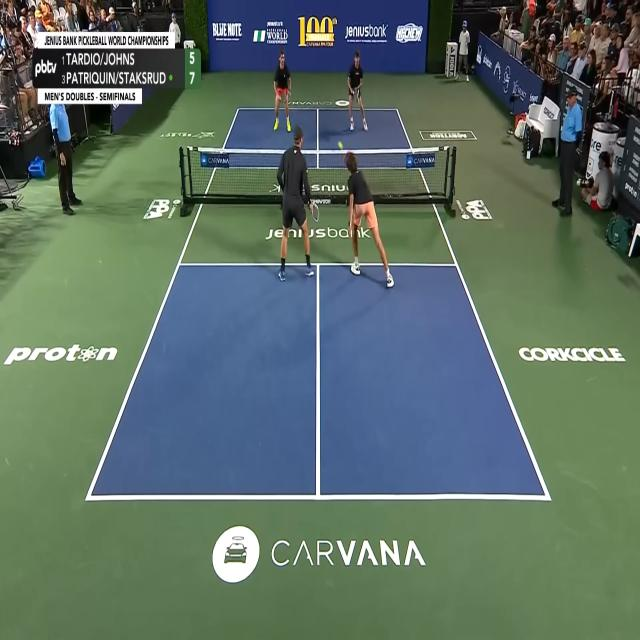ball: (338, 141, 343, 150)
